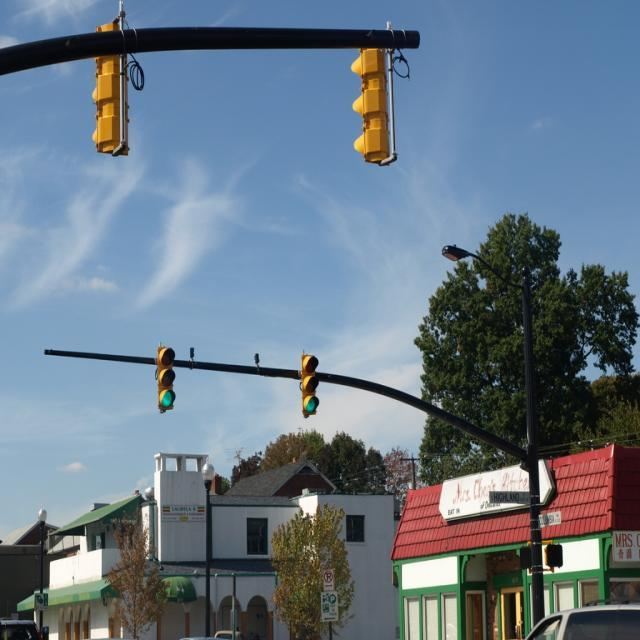traffic light: (156, 348, 178, 413), (302, 352, 321, 418)
